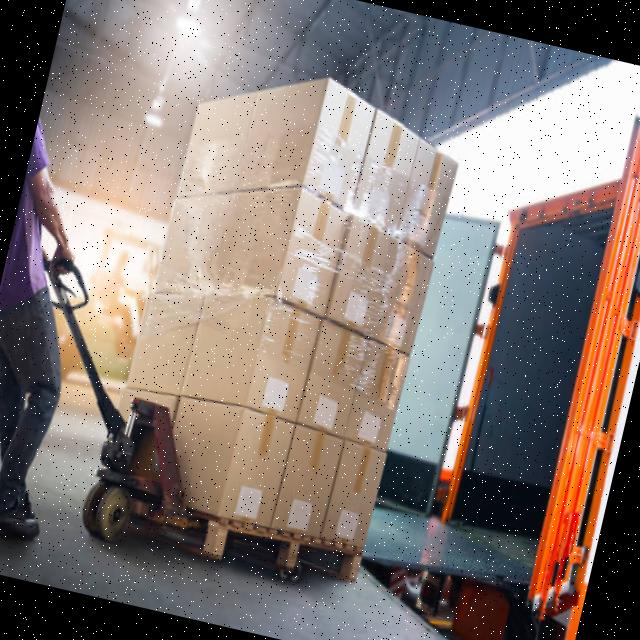Wooden-Pallets: (204, 505, 369, 601)
